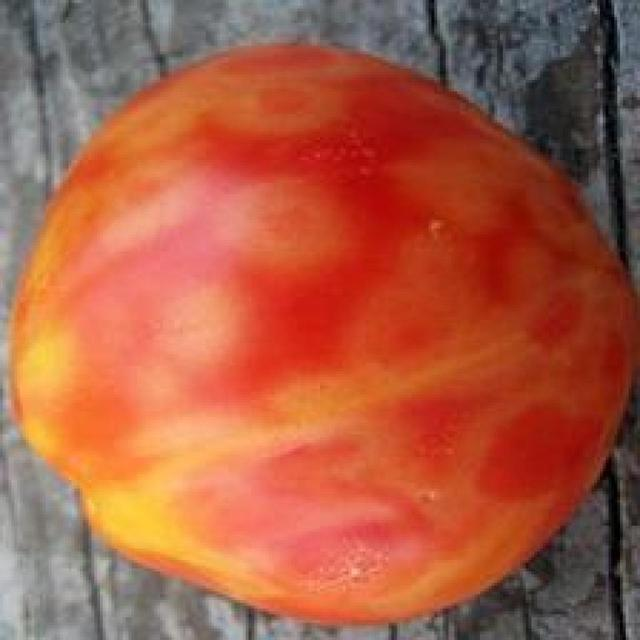Spotted wilt Virus Fruit: (4, 26, 427, 415)
